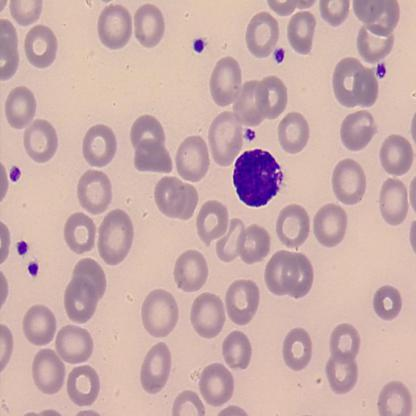Basophil: (231, 143, 286, 211)
